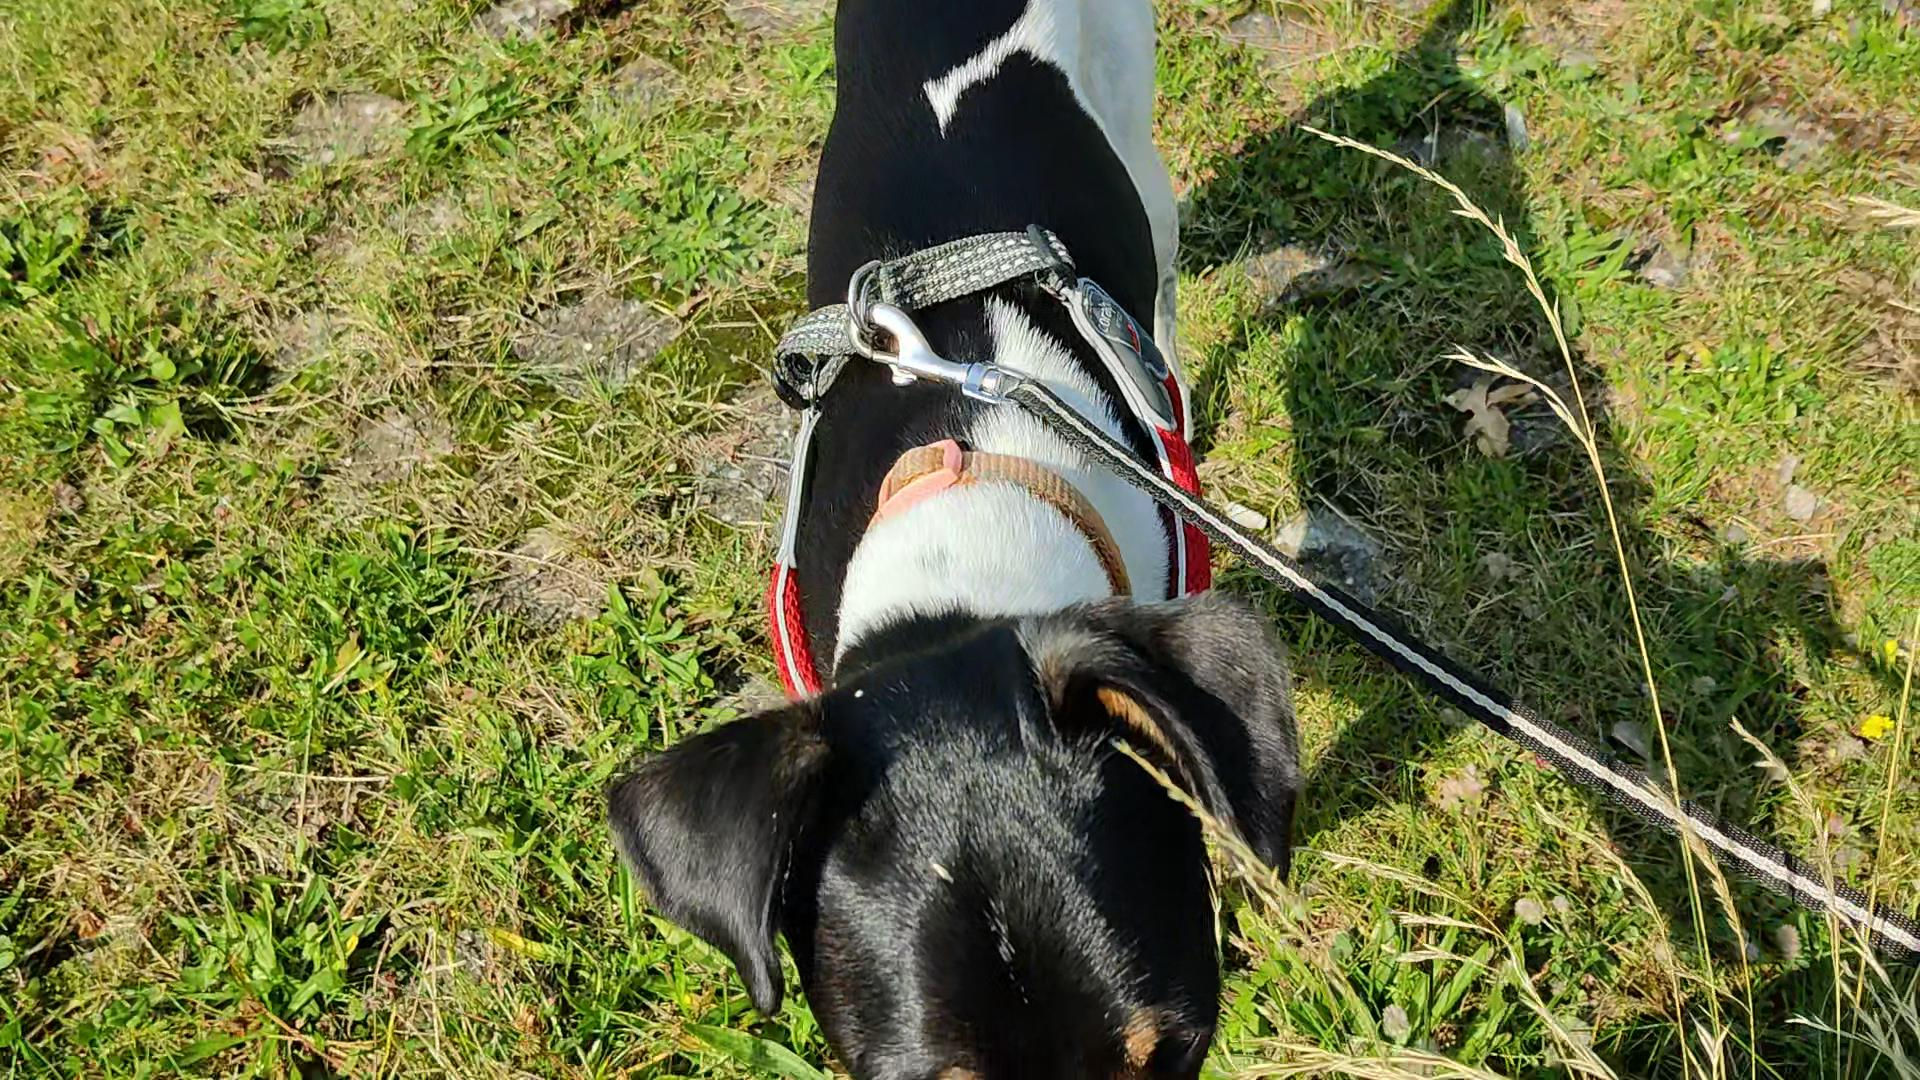Dog: (585, 0, 1317, 1079)
